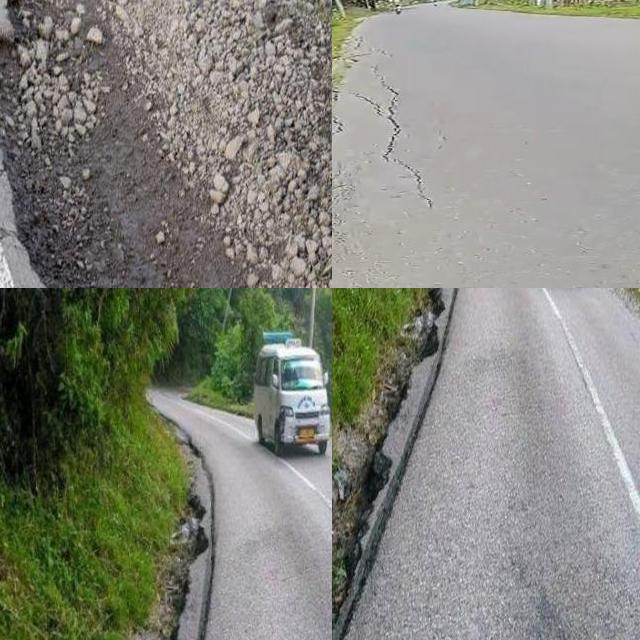Pinggir: (0, 0, 273, 288), (332, 288, 471, 640), (91, 443, 240, 640)
